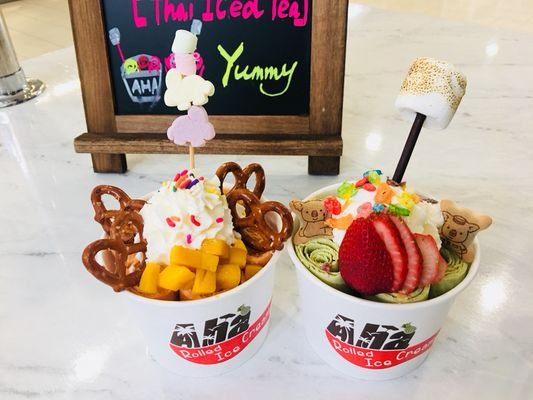curry: (81, 184, 148, 293)
